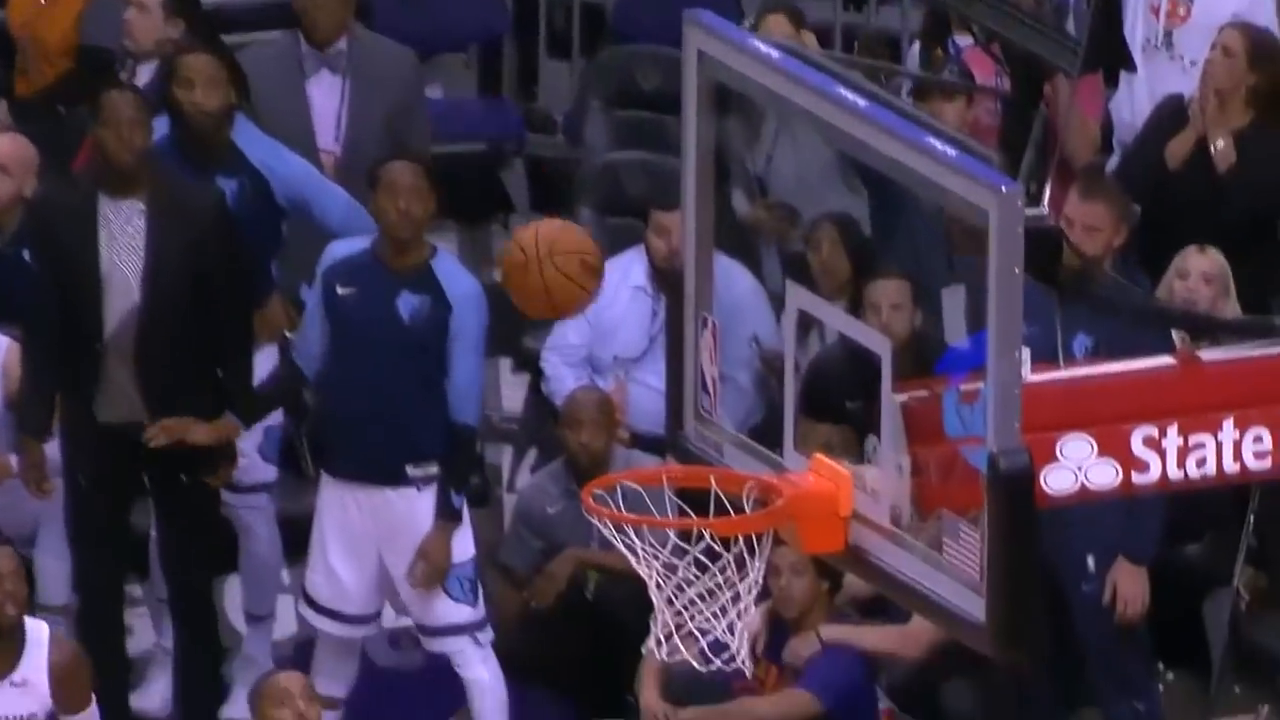ball: (491, 215, 606, 319)
